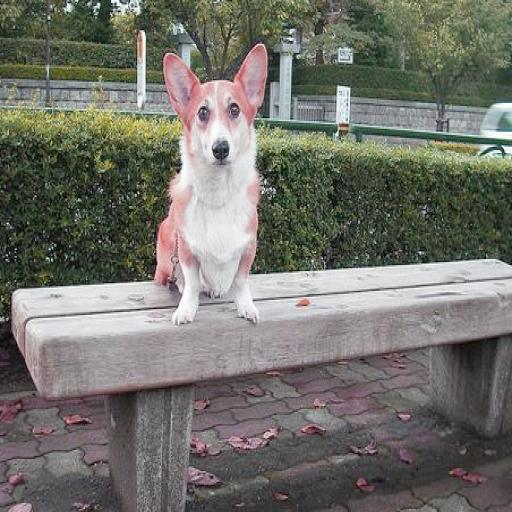dog_face: (160, 48, 270, 167)
